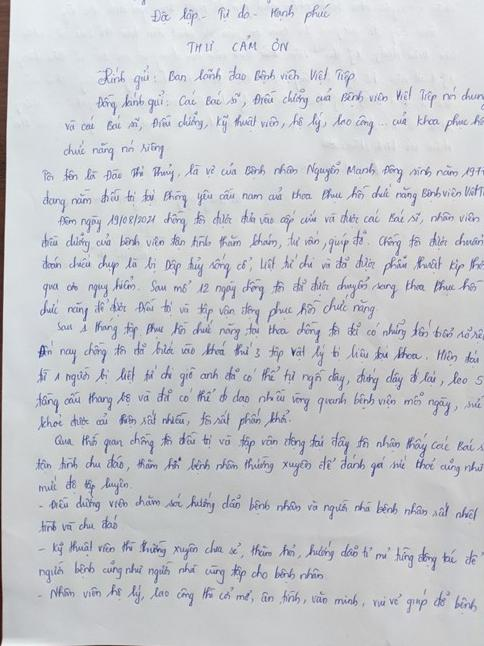text: (51, 536, 484, 573), (50, 490, 480, 526), (49, 583, 481, 618), (32, 385, 484, 418), (39, 182, 484, 214), (36, 339, 484, 370), (34, 451, 484, 480), (35, 364, 484, 393), (52, 431, 484, 459), (38, 229, 484, 256), (41, 251, 484, 278), (91, 85, 484, 115), (55, 317, 484, 344), (40, 274, 484, 300), (41, 159, 484, 183), (63, 112, 484, 137), (57, 209, 482, 232), (38, 295, 378, 322), (37, 558, 327, 586), (96, 62, 362, 92), (36, 408, 295, 432), (148, 2, 334, 29), (185, 32, 293, 57), (62, 138, 170, 160), (37, 473, 134, 497), (120, 0, 358, 8), (37, 512, 123, 533)
